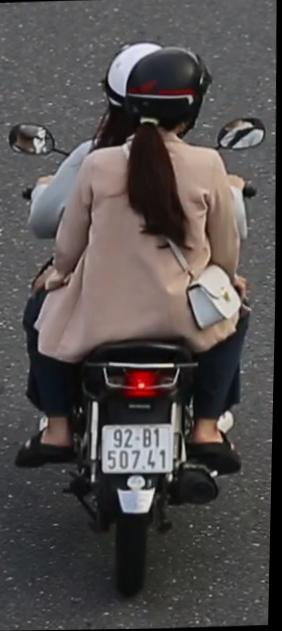LP: (103, 27, 162, 132), (100, 412, 180, 481)
helmet: (120, 41, 216, 171)
